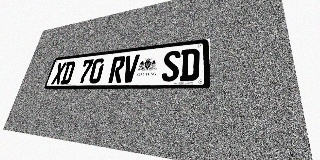0: (88, 58, 105, 84)
7: (77, 59, 94, 84)
D: (179, 48, 200, 81), (60, 61, 76, 84)
R: (108, 56, 126, 83)
S: (161, 50, 181, 82)
V: (121, 54, 140, 83)
X: (51, 62, 67, 85)
